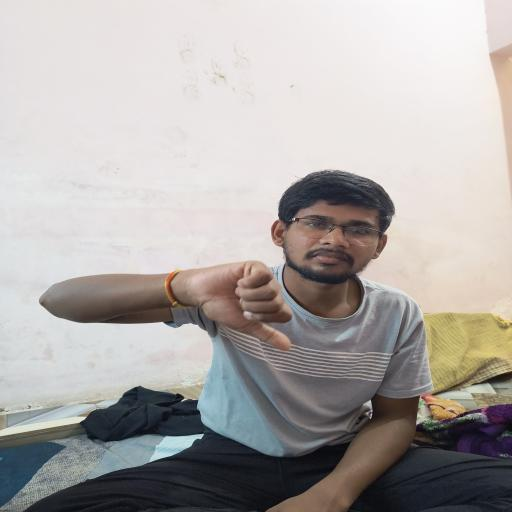Continue: (176, 250, 320, 362)
